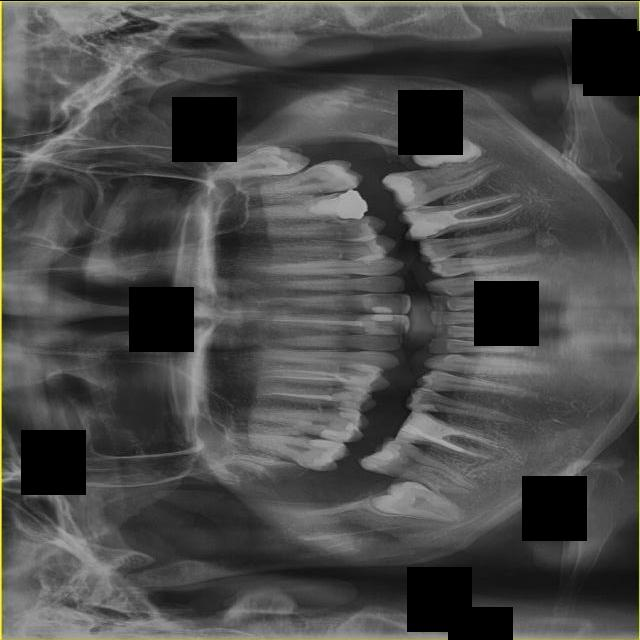71: (398, 421, 466, 454)
74: (448, 193, 517, 215), (456, 204, 525, 226), (252, 313, 365, 326), (447, 426, 504, 449), (257, 389, 337, 400), (257, 372, 348, 381), (262, 366, 341, 376), (460, 448, 490, 459)
NucleOSS Implant: (309, 186, 369, 219)
Sterngold Implant: (255, 456, 309, 485)
Straumann Implant: (394, 407, 459, 442), (378, 164, 423, 208), (318, 404, 364, 445), (336, 361, 386, 395), (400, 208, 457, 237), (363, 434, 404, 474), (309, 432, 349, 468), (363, 290, 412, 315), (357, 314, 410, 334), (330, 387, 371, 411), (403, 389, 436, 412), (372, 312, 393, 322), (370, 304, 392, 313)
